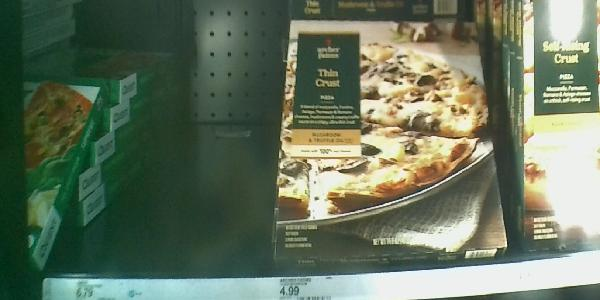pizza1: (273, 14, 512, 257)
